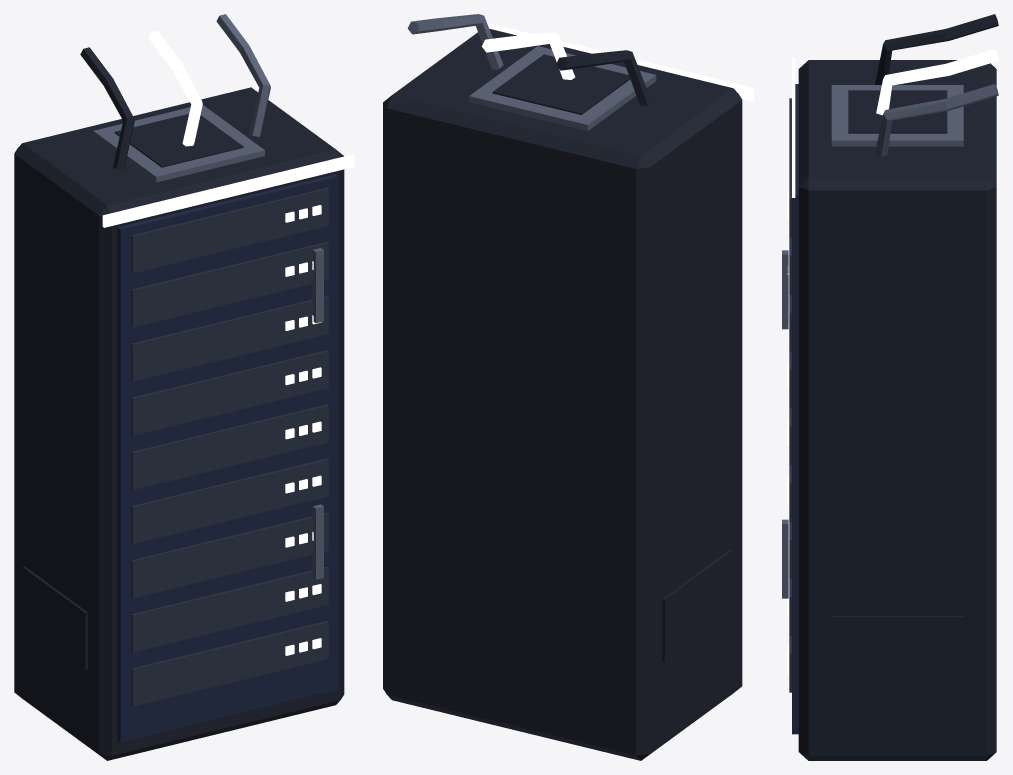
File: kit-tokyo-decor-1.glb
3 renders of one model, left to right at view 1: azimuth 30°, elevation 25°; view 2: azimuth 150°, elevation 25°; view 3: azimuth 270°, elevation 25°, orthographic. The views are drawn at different scales.
Parts seen in each view (by area): view 1: kit-tokyo-decor-1; view 2: kit-tokyo-decor-1; view 3: kit-tokyo-decor-1.
Boxes of the visible parts, x1,y1,x2,y2 form: kit-tokyo-decor-1: [14, 14, 354, 760]; kit-tokyo-decor-1: [383, 14, 753, 760]; kit-tokyo-decor-1: [782, 14, 998, 760].
Bounding box in the file's own units: 0.92 × 2.22 × 0.6563.
